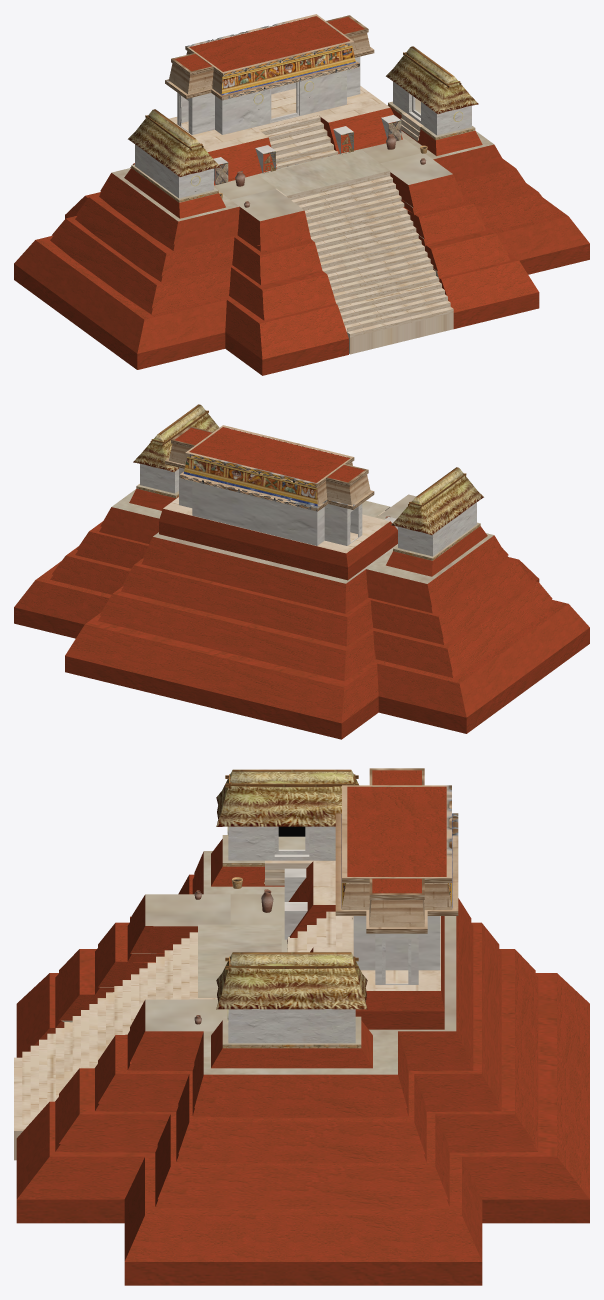
File: elmirador_eltigre.dae
3 views of the same model, one above another, from view 1: azimuth 30°, elevation 25°; view 2: azimuth 150°, elevation 25°; view 3: azimuth 270°, elevation 25° (orthographic). The views are drawn at different scales.
Parts seen in each view (by area): view 1: Cubo_000_001_001_002_001; view 2: Cubo_000_001_001_002_001; view 3: Cubo_000_001_001_002_001.
Boxes of the visible parts, x1,y1,x2,y2 form: Cubo_000_001_001_002_001: [14, 14, 589, 375]; Cubo_000_001_001_002_001: [14, 404, 589, 739]; Cubo_000_001_001_002_001: [14, 768, 589, 1285].
Size of the model in its own units: 62.5 by 47.47 by 26.69.
